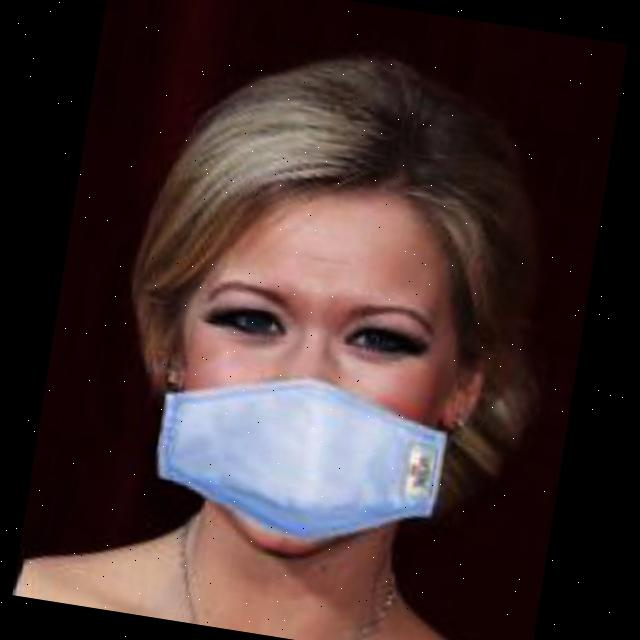suspicion: (114, 17, 574, 564)
